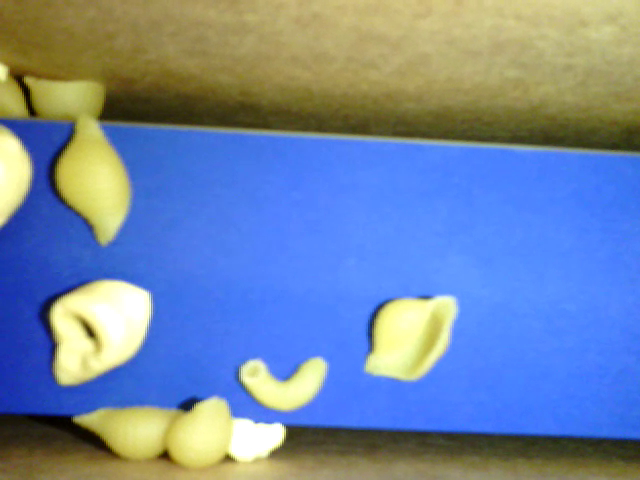elbow: (236, 355, 329, 412)
shell: (52, 112, 132, 249), (360, 293, 460, 382), (70, 406, 184, 460), (164, 395, 230, 469), (24, 75, 109, 125)
tortellini: (45, 275, 151, 387)
